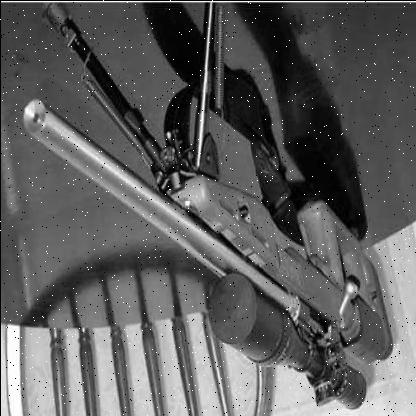rifle: (11, 56, 395, 382)
